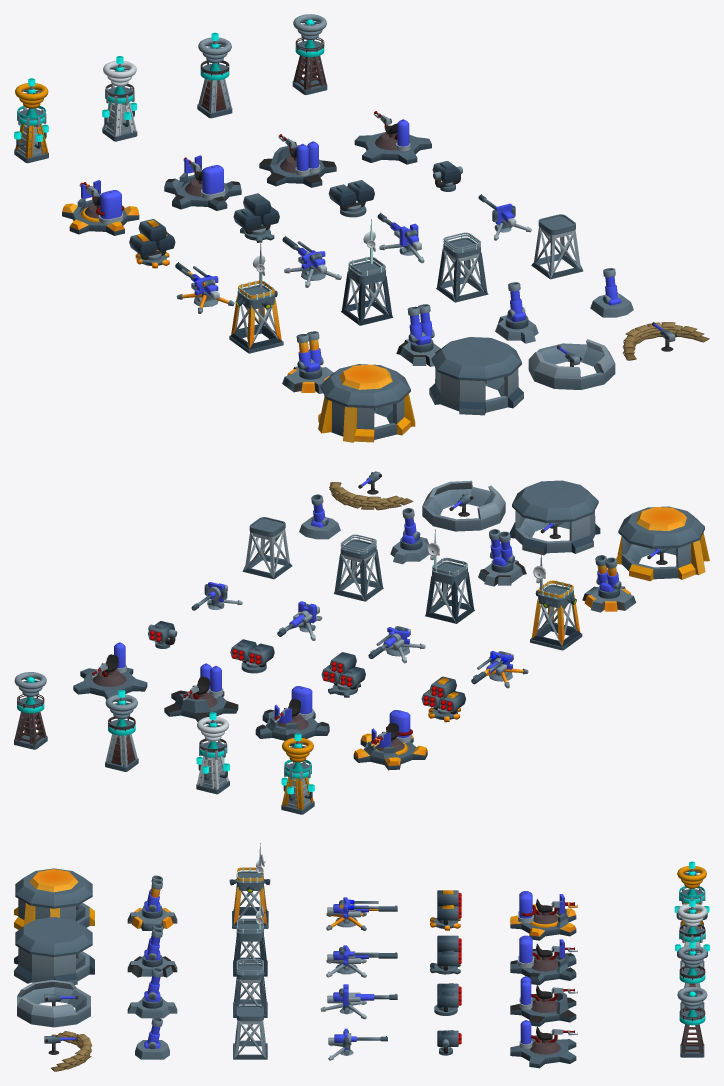
The model's file is towersV2.fbx.
3 views of the same model, one above another, from view 1: azimuth 30°, elevation 25°; view 2: azimuth 150°, elevation 25°; view 3: azimuth 270°, elevation 25° (orthographic). The views are drawn at different scales.
Parts seen in each view (by area): view 1: turrellLvl4, turrellLvl3, turrellLvl2, towerLvl4, towerLvl3, towerLvl2, teslaLvl3, electr4, teslaLvl2, teslaLvl1, towerLvl1, firestarterLvl3.001 (+19 smaller); view 2: turrellLvl4, turrellLvl3, turrellLvl2, towerLvl4, towerLvl3, towerLvl2, teslaLvl3, electr4, teslaLvl2, teslaLvl1, towerLvl1, fireLvl4 (+20 smaller); view 3: turrellLvl3, turrellLvl4, turrellLvl2, towerLvl4, teslaLvl1, towerLvl3, towerLvl1, towerLvl2, firestarterLvl3.001, teslaLvl3, firestarterLvl3, teslaLvl2 (+21 smaller).
Boxes of the visible parts, x1,y1,x2,y2 form: turrellLvl4: (318, 364, 415, 442); turrellLvl3: (429, 337, 523, 415); turrellLvl2: (528, 339, 615, 389); towerLvl4: (229, 243, 283, 353); towerLvl3: (341, 219, 392, 325); towerLvl2: (436, 232, 488, 302); teslaLvl3: (102, 56, 137, 141); electr4: (14, 78, 48, 163); teslaLvl2: (197, 32, 232, 118); teslaLvl1: (292, 14, 327, 94); towerLvl1: (531, 214, 583, 279); firestarterLvl3.001: (79, 180, 124, 224); turrellLvl4: (616, 506, 709, 581); turrellLvl3: (509, 480, 600, 555); turrellLvl2: (422, 480, 505, 531); towerLvl4: (530, 552, 582, 650); towerLvl3: (425, 529, 474, 623); towerLvl2: (333, 534, 383, 601); teslaLvl3: (196, 712, 229, 794); electr4: (281, 733, 314, 814); teslaLvl2: (105, 690, 138, 771); teslaLvl1: (14, 672, 47, 749); towerLvl1: (242, 517, 292, 579); fireLvl4: (353, 733, 427, 770); turrellLvl3: (14, 917, 94, 984); turrellLvl4: (14, 868, 94, 929); turrellLvl2: (17, 980, 90, 1027); towerLvl4: (229, 843, 270, 928); teslaLvl1: (677, 986, 707, 1057); towerLvl3: (233, 894, 267, 976); towerLvl1: (233, 1005, 267, 1059); towerLvl2: (233, 959, 267, 1017); firestarterLvl3.001: (518, 891, 577, 927); teslaLvl3: (675, 899, 709, 971); firestarterLvl3: (518, 935, 577, 971); teslaLvl2: (677, 941, 707, 1013).
Size of the model in its own units: 8185 by 1892 by 14170.
